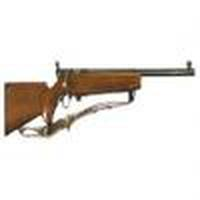gun: (1, 51, 200, 156)
